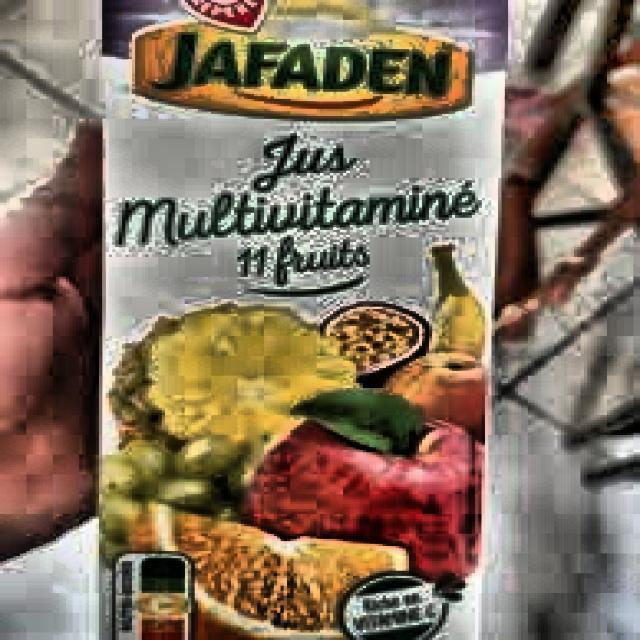cardboard: (92, 0, 512, 638)
